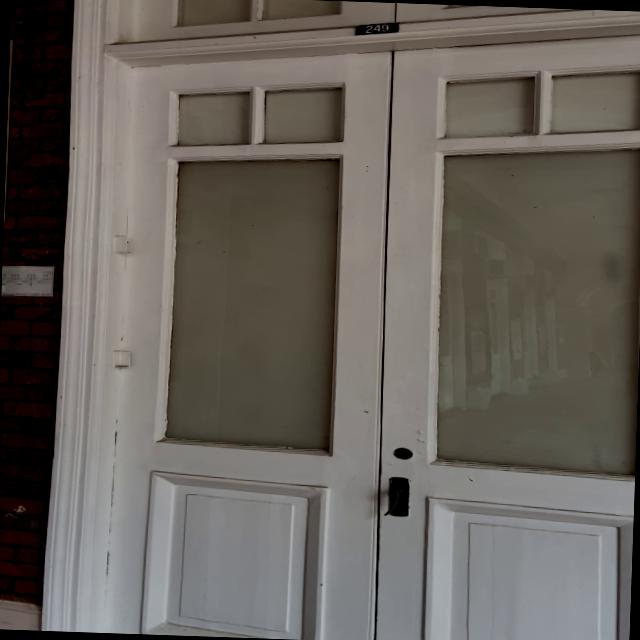room249: (351, 15, 400, 39)
